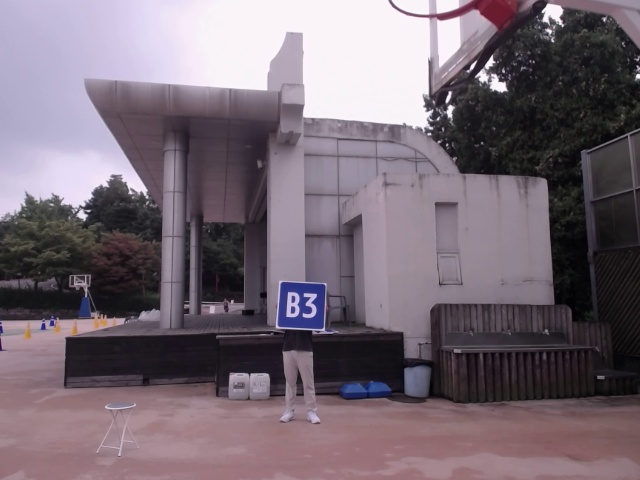delivery_b3: (278, 282, 326, 331)
